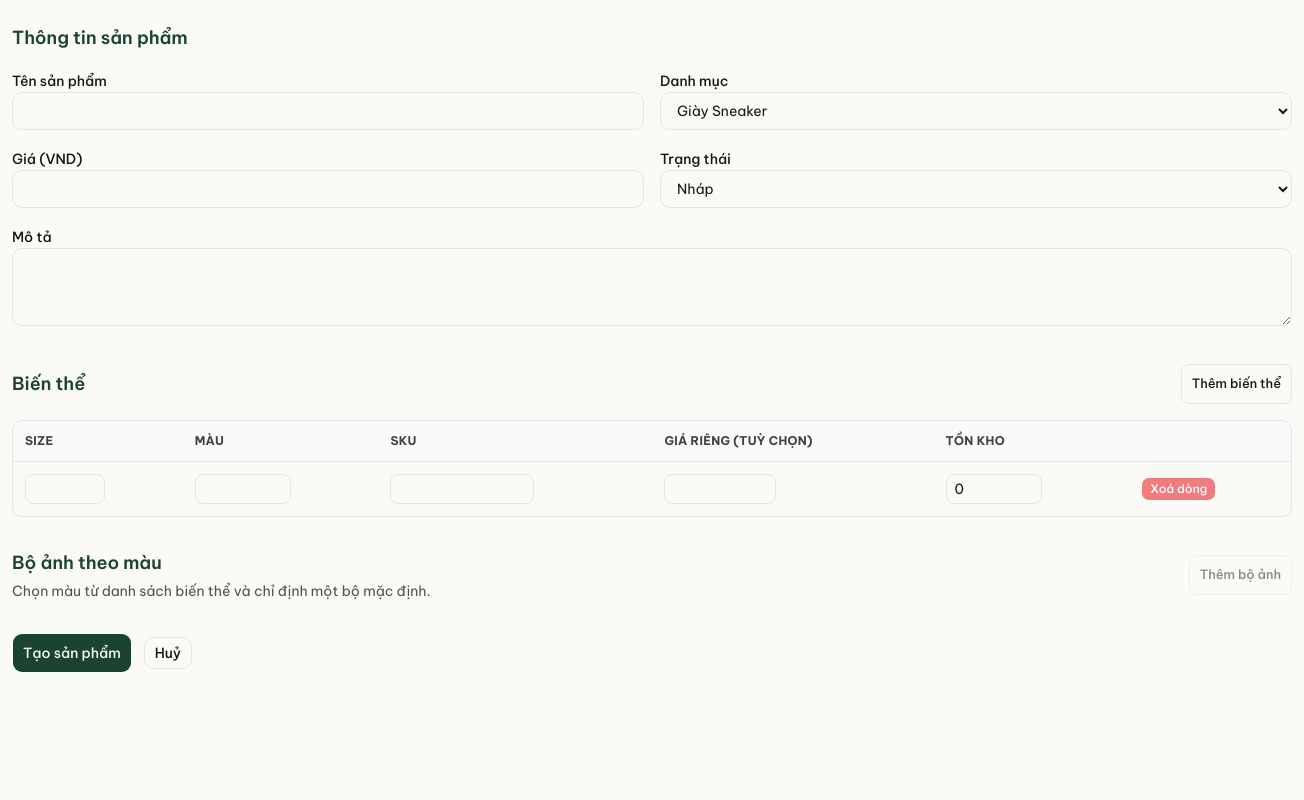
ProductForm — biến thể inline › bấm 'Xoá dòng' trên dòng thứ 2 → giảm số dòng về 1
The image size is (1304, 800).
What coordinates should you click on to do the following:
click the button "Thêm biến thể"
I would click on:
 (1236, 384)
Its box is x1=1181 y1=364 x2=1292 y2=404.
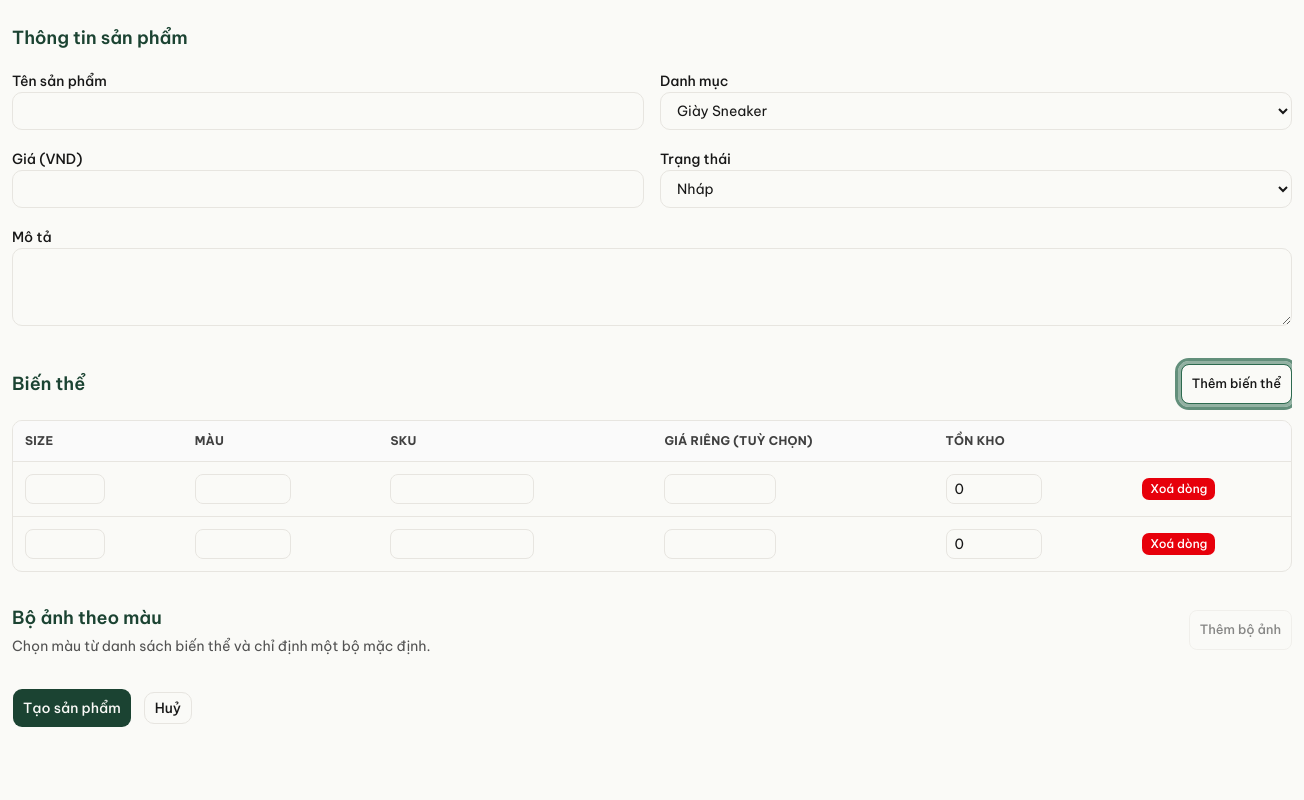
Check: the number of rows with test id "variant-row" is 2, box x1=13 y1=462 x2=1291 y2=516; x1=13 y1=516 x2=1291 y2=571
What coordinates should you click on to do the following:
click the 2nd button "Xoá dòng"
I would click on:
 (1179, 544)
Its box is x1=1141 y1=532 x2=1216 y2=556.
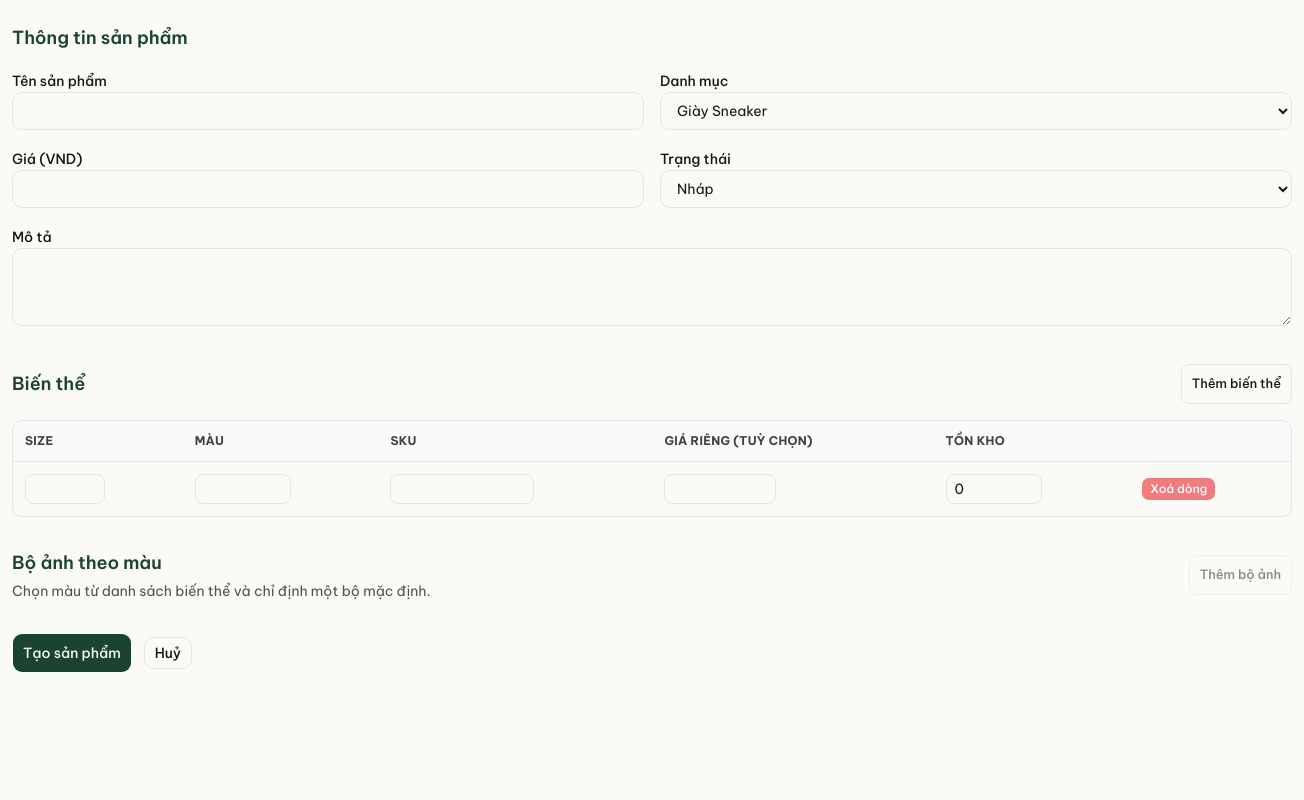
Check: the number of rows with test id "variant-row" is 1, box x1=13 y1=462 x2=1291 y2=516
